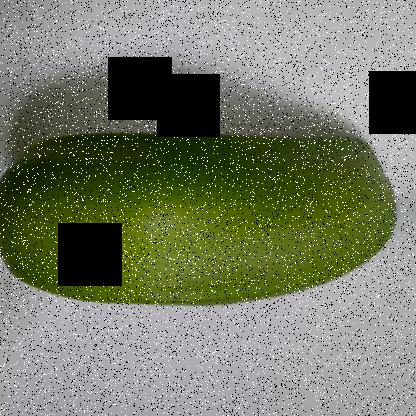freshunripe: (0, 112, 401, 311)
